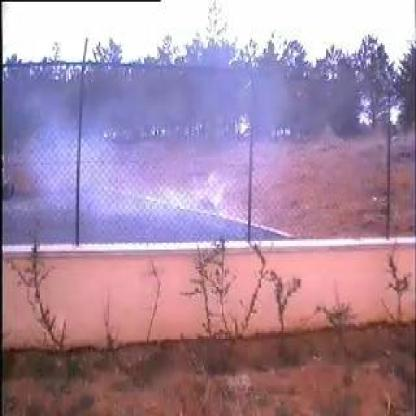-: (79, 64, 255, 243)
